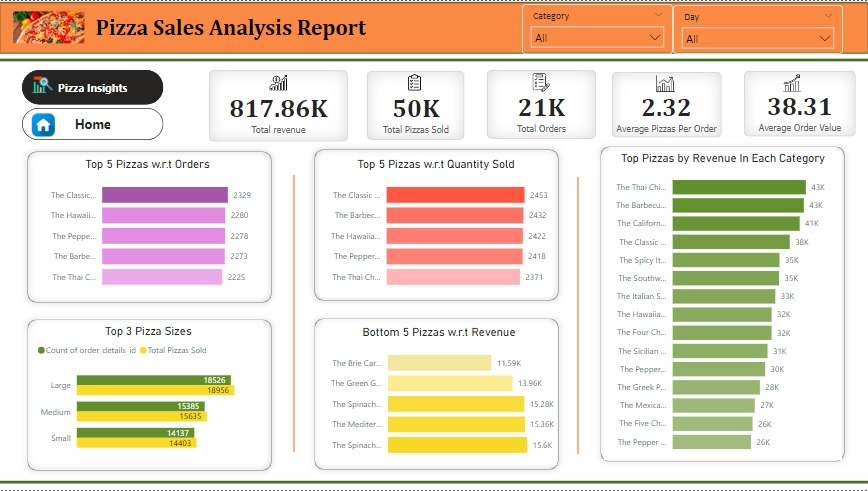

The page's visual inventory and layout, read from the dashboard file:
{"tool":"powerbi","page":{"name":"Pizza Insights","canvas":[1280,720],"ordinal":1},"visuals":[{"type":"shape","box":[0,1.5,1280,76.5],"z":0},{"type":"textbox","box":[136.8,14.7,485.5,48.6],"z":1000},{"type":"image","box":[14.7,10.3,116.2,57.4],"z":2000},{"type":"shape","box":[0,78,1280,17.7],"z":3000},{"type":"shape","box":[0,696.1,1280,23.9],"z":4000},{"type":"shape","box":[844.4,259.3,14.7,407.5],"z":5000},{"type":"shape","box":[426.6,256.4,14.7,407.5],"z":6000},{"type":"slicer","fields":{"Values":["pizza_types.category"]},"box":[769.5,4.4,222.2,73.6],"z":7000},{"type":"slicer","fields":{"Values":["orders.DayName"]},"box":[991.3,5.5,250.1,71.7],"z":8000},{"type":"shape","box":[456,458.4,375.2,238.3],"z":9000},{"type":"card","fields":{"Values":["Key Measures.Total revenue"]},"box":[309,101.1,204.1,104.8],"z":10000},{"type":"shape","box":[33.7,212.8,375.2,238.3],"z":11000},{"type":"shape","box":[456,210.8,375.2,238.3],"z":12000},{"type":"shape","box":[876.9,206,375.2,479.6],"z":13000},{"type":"shape","box":[33.5,460.2,375.2,238.3],"z":14000},{"type":"card","fields":{"Values":["Key Measures.Total Pizzas Sold"]},"box":[540.7,103,143.4,101.1],"z":15000},{"type":"card","fields":{"Values":["Key Measures.Average Order Value"]},"box":[1096.1,103.5,164.4,96.2],"z":16000},{"type":"card","fields":{"Values":["Key Measures.Average Pizzas Sold Per Order"]},"box":[902.5,104.7,160.8,96.2],"z":17000},{"type":"card","fields":{"Values":["Key Measures.Total Orders"]},"box":[717.2,101.1,160,101.1],"z":18000},{"type":"clusteredBarChart","title":"Top Pizzas by Revenue  In Each Category","fields":{"Category":["pizza_types.category","pizza_types.name"],"Y":["Key Measures.Total revenue"]},"box":[890.1,220.7,350.2,454.6],"z":19000},{"type":"clusteredBarChart","title":"Top 3 Pizza Sizes ","fields":{"Category":["pizzas.size"],"Y":["Count(order_details.order_details_id)","Key Measures.Total Pizzas Sold"]},"box":[51.5,474.5,336.6,204.1],"z":20000},{"type":"clusteredBarChart","title":"Top 5 Pizzas w.r.t Orders","fields":{"Category":["pizza_types.name"],"Y":["Key Measures.Total Orders"]},"box":[58.9,229.5,319.3,206],"z":21000},{"type":"clusteredBarChart","title":"Top 5 Pizzas w.r.t Quantity Sold","fields":{"Category":["pizza_types.name"],"Y":["Key Measures.Total Pizzas Sold"]},"box":[472.3,229.5,341.3,206],"z":22000},{"type":"clusteredBarChart","title":"Bottom 5 Pizzas w.r.t Revenue","fields":{"Category":["pizza_types.name"],"Y":["Key Measures.Total revenue"]},"box":[472.6,476.3,349.4,206],"z":23000},{"type":"pageNavigator","box":[33.8,101.5,208.9,51.5],"z":24000},{"type":"pageNavigator","box":[33.8,157.4,208.9,47.1],"z":25000},{"type":"image","box":[40.5,160,47.8,44.1],"z":26000},{"type":"image","box":[44.1,97.5,40.5,51.5],"z":27000},{"type":"image","box":[391.4,94.2,38.3,51.5],"z":28000},{"type":"image","box":[594.4,95.6,33.8,48.6],"z":29000},{"type":"image","box":[778.3,101.5,38.3,36.8],"z":30000},{"type":"image","box":[962.1,102.3,36.5,36.5],"z":31000},{"type":"image","box":[1149.7,103.5,35.3,35.3],"z":32000}]}

Visuals, with their boxes in screenshot pixels (x1, y1, x2, y2), scaled from the page's 1280x720 canvas onto the 868x491 screenshot:
shape: rect(0, 1, 867, 53)
textbox: rect(93, 10, 422, 43)
image: rect(10, 7, 89, 46)
shape: rect(0, 53, 867, 65)
shape: rect(0, 475, 867, 490)
shape: rect(573, 177, 583, 455)
shape: rect(289, 175, 299, 453)
slicer - pizza_types.category: rect(522, 3, 672, 53)
slicer - orders.DayName: rect(672, 4, 842, 53)
shape: rect(309, 313, 564, 475)
card - Key Measures.Total revenue: rect(210, 69, 348, 140)
shape: rect(23, 145, 277, 308)
shape: rect(309, 144, 564, 306)
shape: rect(595, 140, 849, 468)
shape: rect(23, 314, 277, 476)
card - Key Measures.Total Pizzas Sold: rect(367, 70, 464, 139)
card - Key Measures.Average Order Value: rect(743, 71, 855, 136)
card - Key Measures.Average Pizzas Sold Per Order: rect(612, 71, 721, 137)
card - Key Measures.Total Orders: rect(486, 69, 595, 138)
"Top Pizzas by Revenue  In Each Category" clusteredBarChart: rect(604, 151, 841, 461)
"Top 3 Pizza Sizes " clusteredBarChart: rect(35, 324, 263, 463)
"Top 5 Pizzas w.r.t Orders" clusteredBarChart: rect(40, 157, 256, 297)
"Top 5 Pizzas w.r.t Quantity Sold" clusteredBarChart: rect(320, 157, 552, 297)
"Bottom 5 Pizzas w.r.t Revenue" clusteredBarChart: rect(320, 325, 557, 465)
pageNavigator: rect(23, 69, 165, 104)
pageNavigator: rect(23, 107, 165, 139)
image: rect(27, 109, 60, 139)
image: rect(30, 66, 57, 102)
image: rect(265, 64, 291, 99)
image: rect(403, 65, 426, 98)
image: rect(528, 69, 554, 94)
image: rect(652, 70, 677, 95)
image: rect(780, 71, 804, 95)
